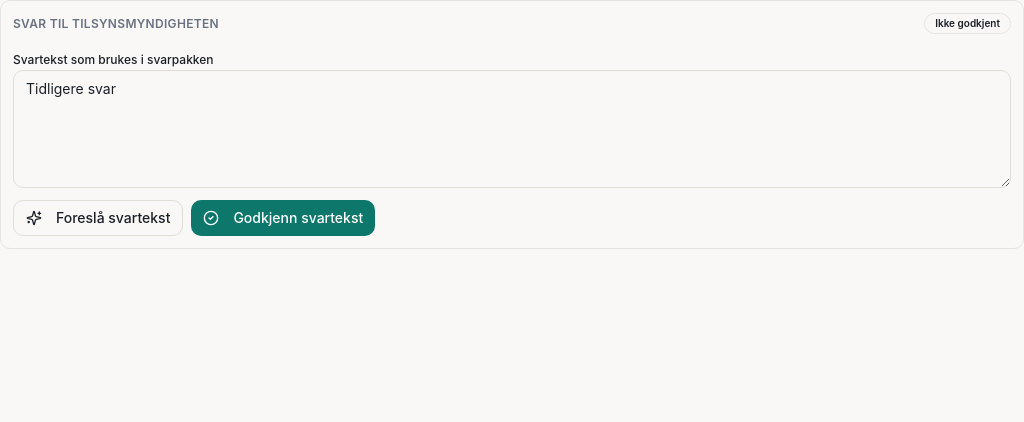
Test case: Applying an inspection response suggestion › generates an unsaved draft using the existing finding identity, without approving or modifying treatment fields
Click the button "Foreslå svartekst" at (98, 218), box [13,200,183,236]
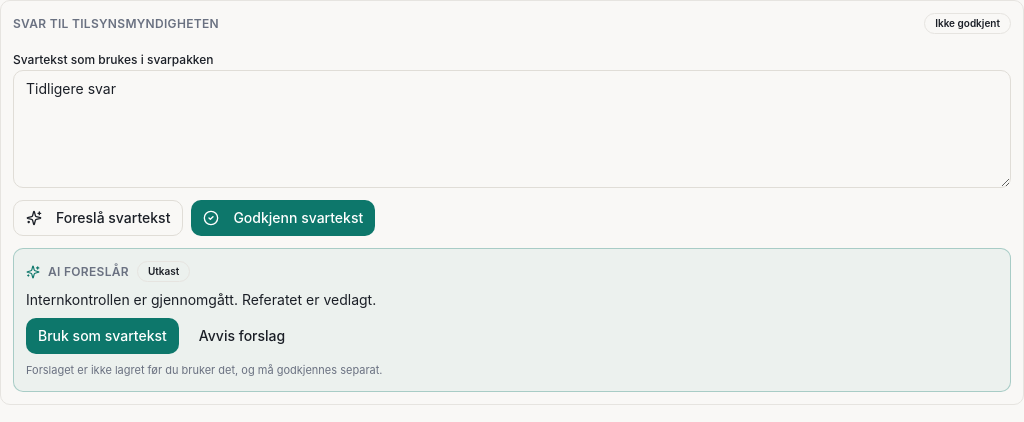
Check: the text box holds "Tidligere svar", box [13,70,1011,188]
Check: the button "Bruk som svartekst" is shown, box [26,318,179,354]
